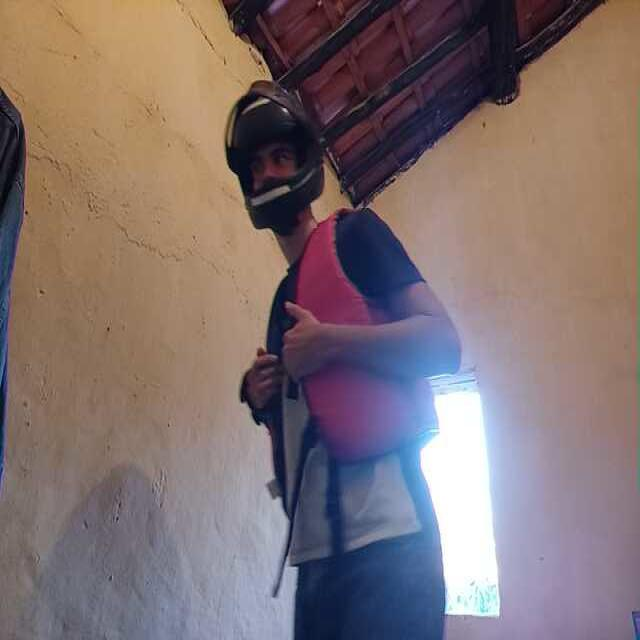capacete: (225, 77, 331, 222)
colete: (258, 212, 445, 468)
pessoa: (233, 128, 443, 640)
